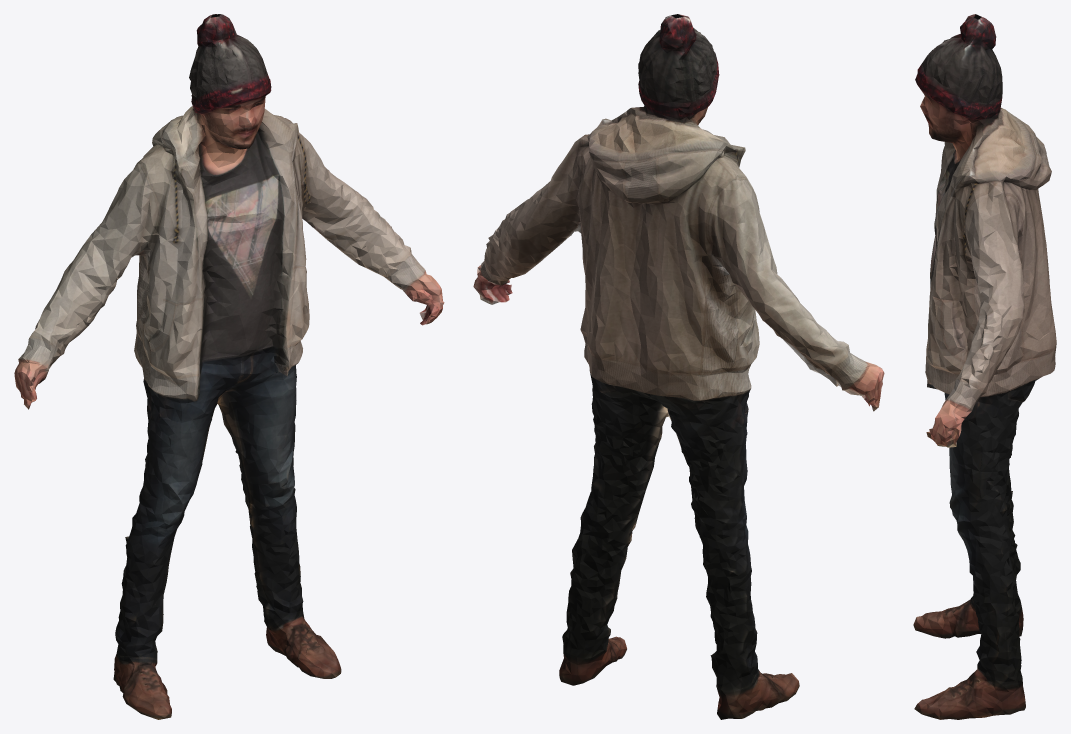
File: Jonathan10k.obj
3 renders of one model, left to right at view 1: azimuth 30°, elevation 25°; view 2: azimuth 150°, elevation 25°; view 3: azimuth 270°, elevation 25°, orthographic. The views are drawn at different scales.
Parts seen in each view (by area): view 1: Jonathan2; view 2: Jonathan2; view 3: Jonathan2.
Part boxes in pixels (x1=…): Jonathan2: x1=14, y1=14, x2=444, y2=719; Jonathan2: x1=473, y1=14, x2=884, y2=719; Jonathan2: x1=913, y1=14, x2=1056, y2=719.
Bounding box in the file's own units: 6.19 × 9.62 × 1.91.
